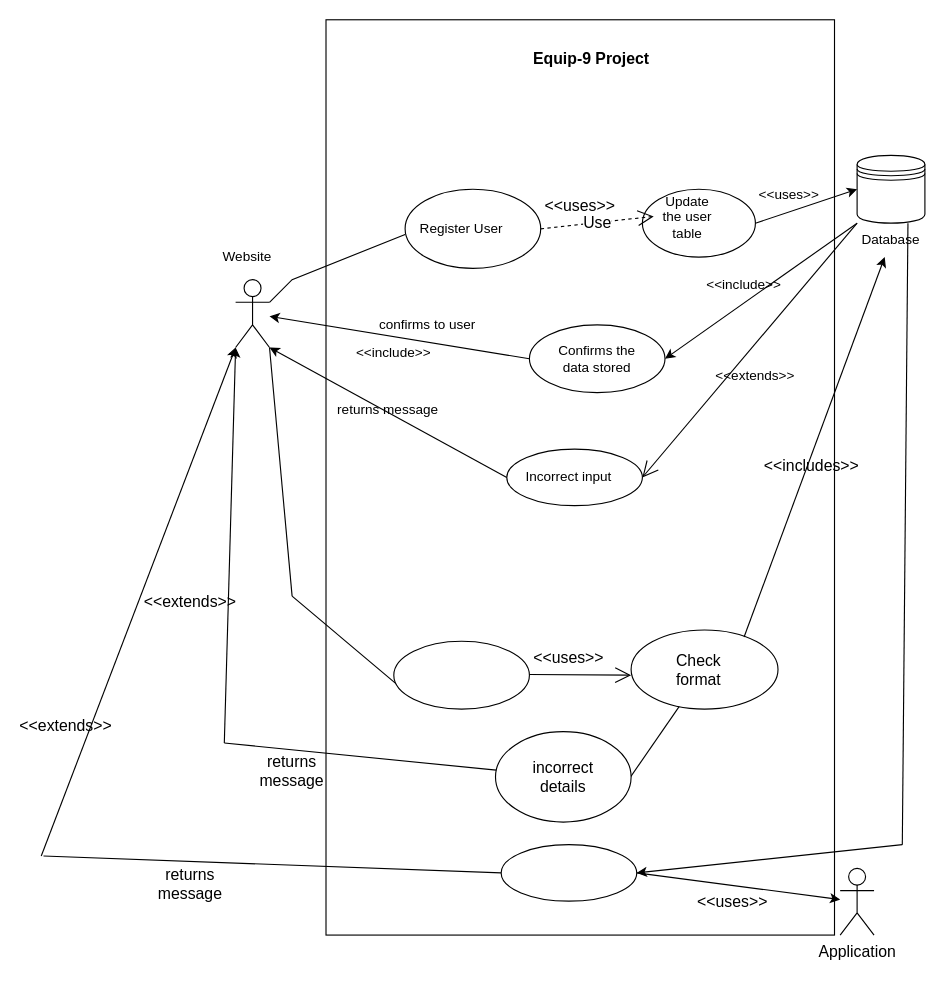
Some shapes in this 945 by 982 pixel diagram are drawn without their labels. Each missing label, with the centre of its shape:
"Access Given" belongs at [568,872].
"Login" belongs at [461,674].
"User" belongs at [252,313].
